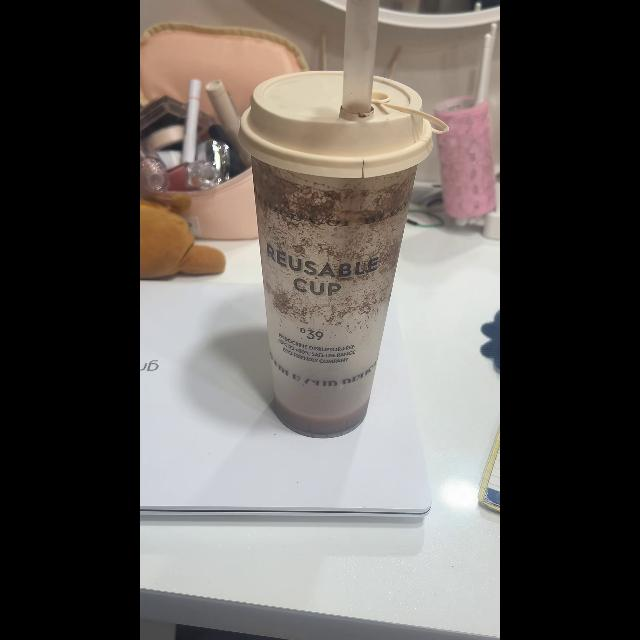dirty: (250, 156, 422, 447)
